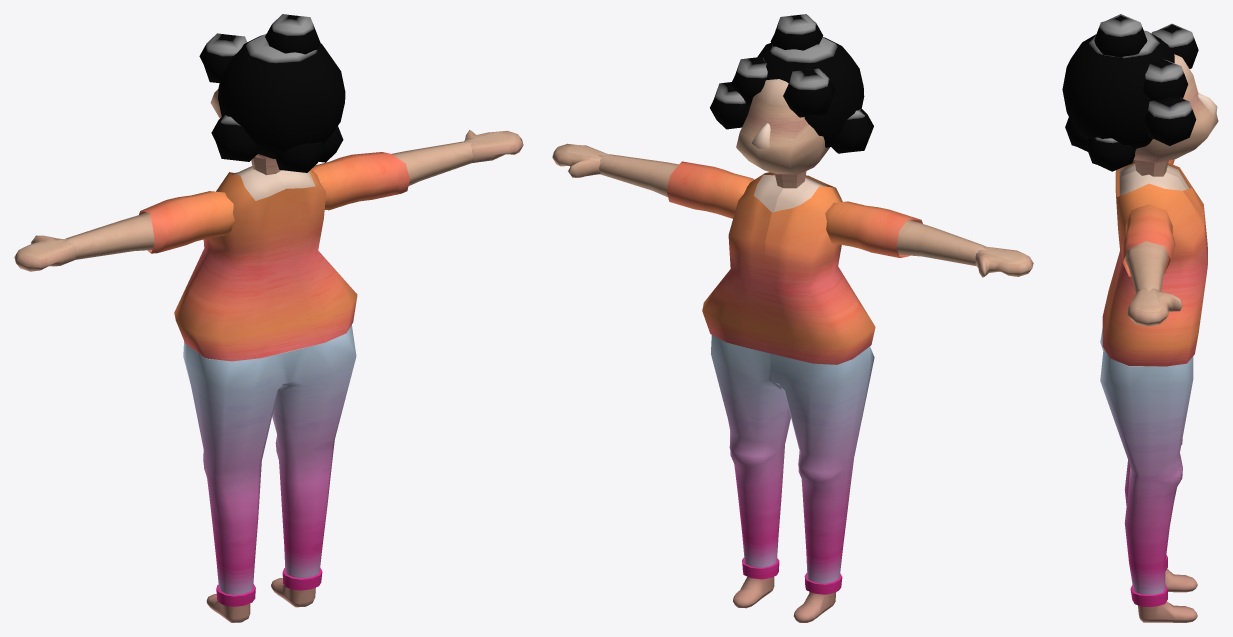
Rendered from Mother_Tpose.fbx.
The picture shows the model from 3 angles, left to right: view 1: azimuth 30°, elevation 25°; view 2: azimuth 150°, elevation 25°; view 3: azimuth 270°, elevation 25°; orthographic projection. The views are drawn at different scales.
Visible parts, largest first — view 1: polySurface18; view 2: polySurface18; view 3: polySurface18.
Boxes of the visible parts, x1=… form: polySurface18: x1=14, y1=14, x2=523, y2=622; polySurface18: x1=552, y1=14, x2=1033, y2=622; polySurface18: x1=1062, y1=14, x2=1218, y2=622.
Size of the model in its own units: 120 by 138 by 32.82.
